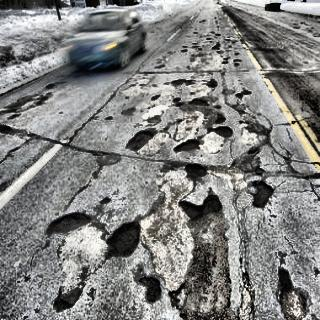pothole: (273, 257, 313, 320), (40, 206, 97, 240), (105, 218, 141, 266), (180, 194, 224, 222), (52, 286, 88, 315), (126, 128, 160, 155), (136, 270, 162, 302), (250, 178, 276, 208), (171, 135, 205, 156), (207, 120, 236, 139), (184, 160, 211, 180), (169, 76, 194, 89), (234, 87, 255, 101), (189, 95, 209, 109), (205, 76, 218, 90)
